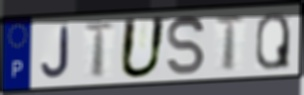J: (39, 25, 71, 80)
Q: (254, 11, 292, 72)
S: (165, 14, 207, 78)
T: (82, 21, 117, 80), (213, 14, 248, 73)
U: (117, 15, 169, 81)
